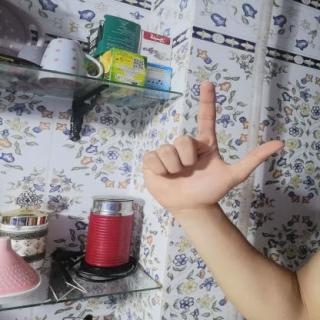LAAM: (124, 70, 296, 222)
